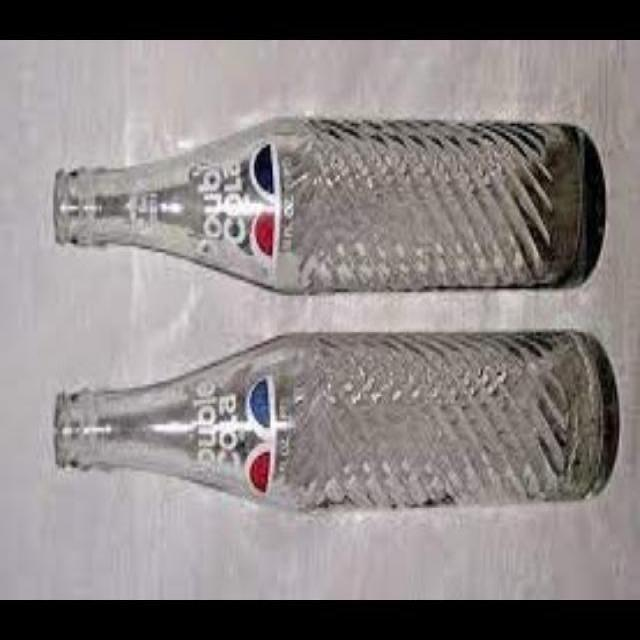Glass: (51, 114, 607, 294), (55, 332, 619, 506)
